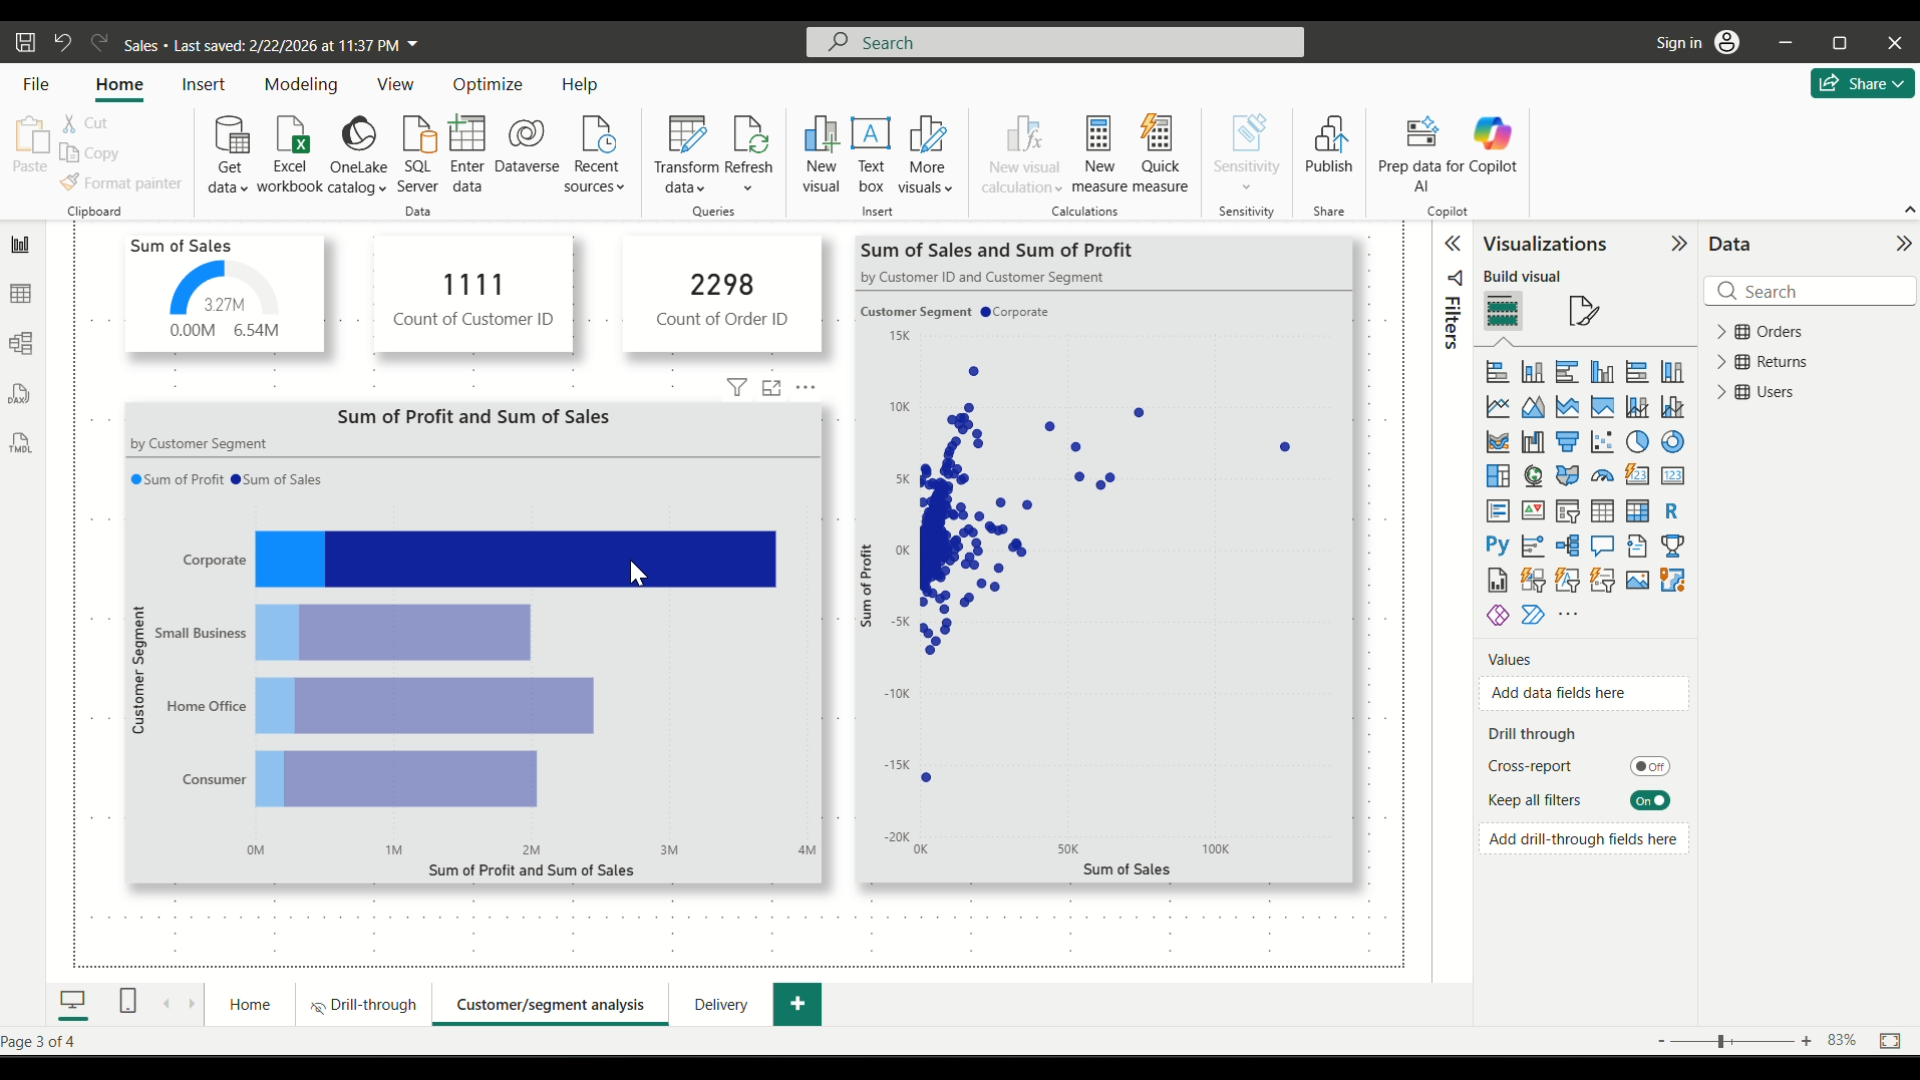

What the dashboard file says about the page in this screenshot:
{"tool":"powerbi","page":{"name":"Customer/segment analysis","canvas":[1280,720],"ordinal":2},"visuals":[{"type":"card","fields":{"Values":["Count(Orders.Customer ID)"]},"box":[288,16,192,112],"z":0},{"type":"card","fields":{"Values":["Count(Orders.Order ID)"]},"box":[528,16,192,112],"z":1000},{"type":"barChart","fields":{"Category":["Orders.Customer Segment"],"Y":["Sum(Orders.Profit)","Sum(Orders.Sales)"]},"box":[48,176,672,464],"z":2000},{"type":"scatterChart","fields":{"X":["Sum(Orders.Sales)"],"Y":["Sum(Orders.Profit)"],"Category":["Orders.Customer ID"],"Series":["Orders.Customer Segment"]},"box":[752,16,480,624],"z":3000},{"type":"gauge","fields":{"Y":["Sum(Orders.Sales)"]},"box":[48,16,192,112],"z":4000}]}

Visuals, with their boxes on the page's 1280x720 design canvas (x1, y1, x2, y2). These are canvas units, not pixel positions in the 1920x1080 screenshot, which may show the page scaled, cropped or inside an application window:
card - Count(Orders.Customer ID): {"left": 288, "top": 16, "right": 480, "bottom": 128}
card - Count(Orders.Order ID): {"left": 528, "top": 16, "right": 720, "bottom": 128}
barChart - Orders.Customer Segment x Sum(Orders.Profit): {"left": 48, "top": 176, "right": 720, "bottom": 640}
scatterChart - Sum(Orders.Sales) x Sum(Orders.Profit): {"left": 752, "top": 16, "right": 1232, "bottom": 640}
gauge - Sum(Orders.Sales): {"left": 48, "top": 16, "right": 240, "bottom": 128}
